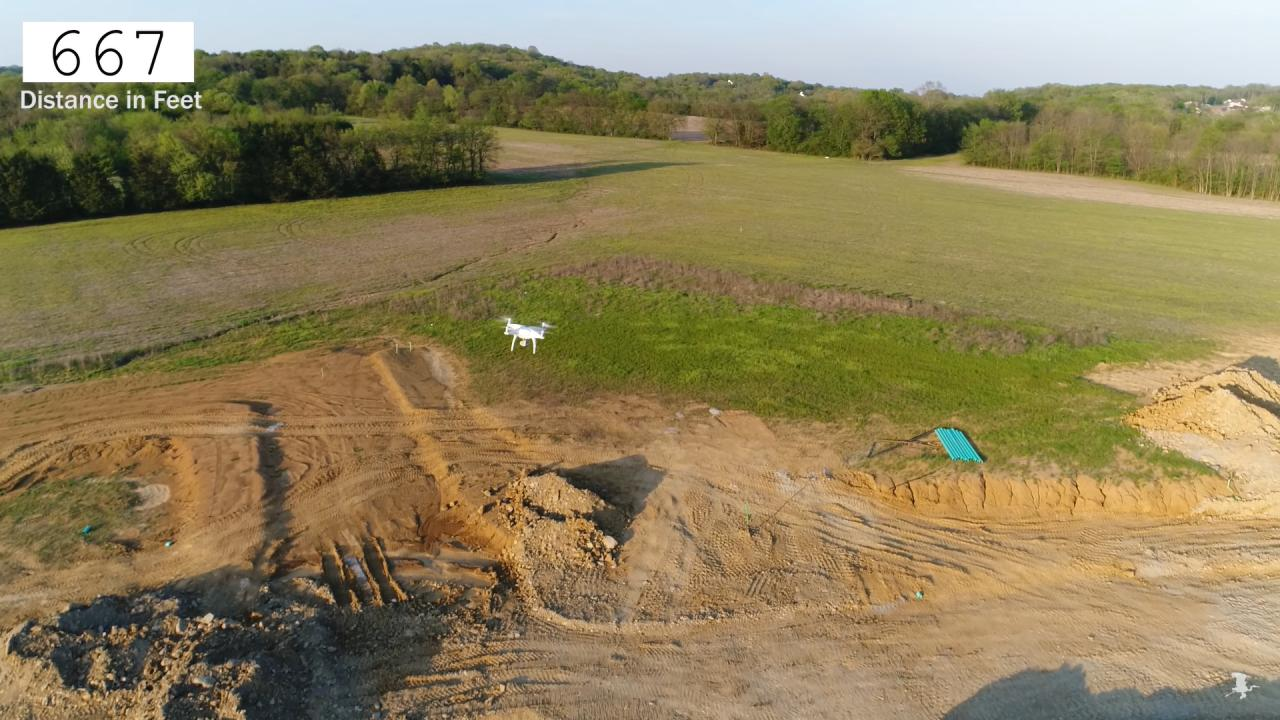Drone: (487, 306, 567, 363)
